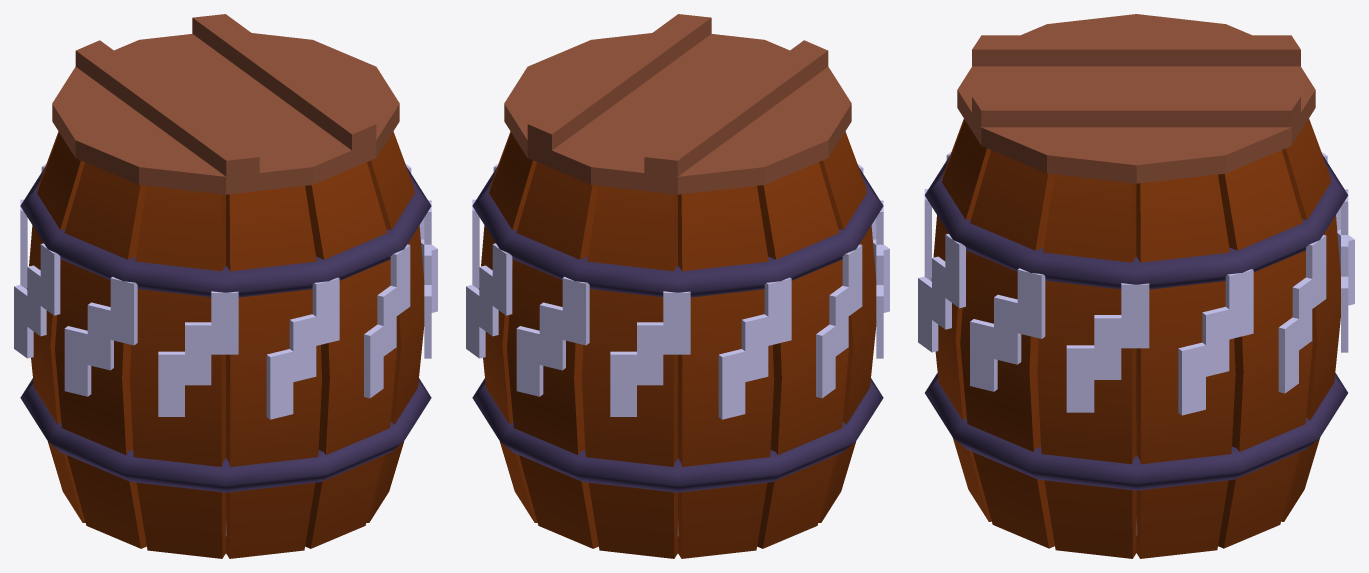
File: Thunggo.fbx
3 renders of one model, left to right at view 1: azimuth 30°, elevation 25°; view 2: azimuth 150°, elevation 25°; view 3: azimuth 270°, elevation 25°, orthographic. The views are drawn at different scales.
Parts seen in each view (by area): view 1: Thunggo; view 2: Thunggo; view 3: Thunggo.
Boxes of the visible parts, bbox=[...] form: Thunggo: bbox=[14, 14, 437, 558]; Thunggo: bbox=[466, 14, 889, 558]; Thunggo: bbox=[918, 14, 1354, 558].
Size of the model in its own units: 168 by 176 by 168.
